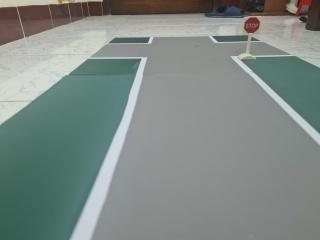stop: (239, 13, 265, 36)
